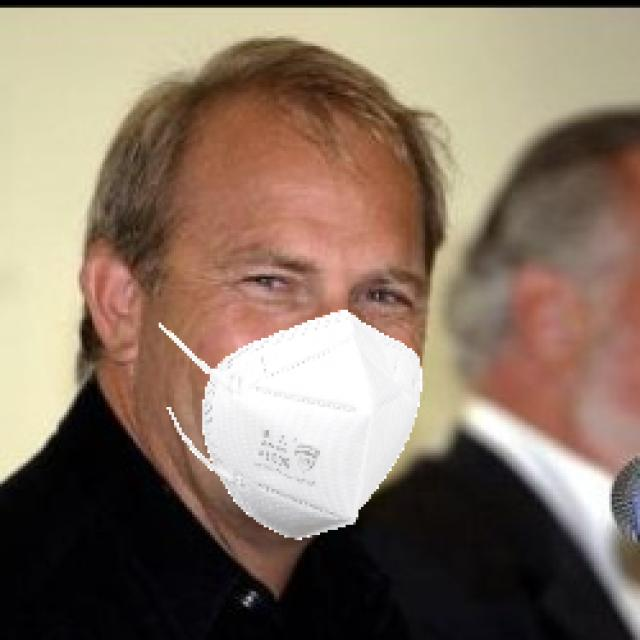mask: (141, 291, 448, 539)
